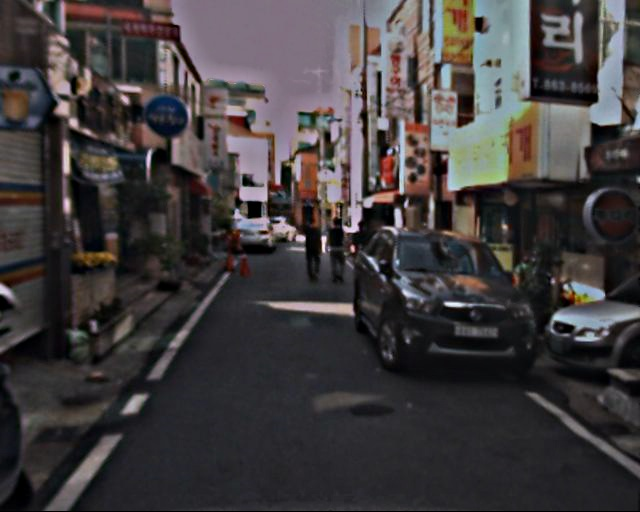person: (322, 217, 351, 287), (347, 219, 375, 288), (298, 215, 326, 283)
